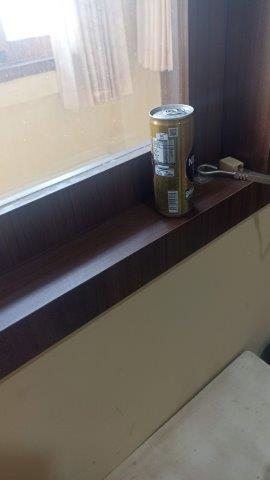kaleng: (150, 105, 196, 220)
